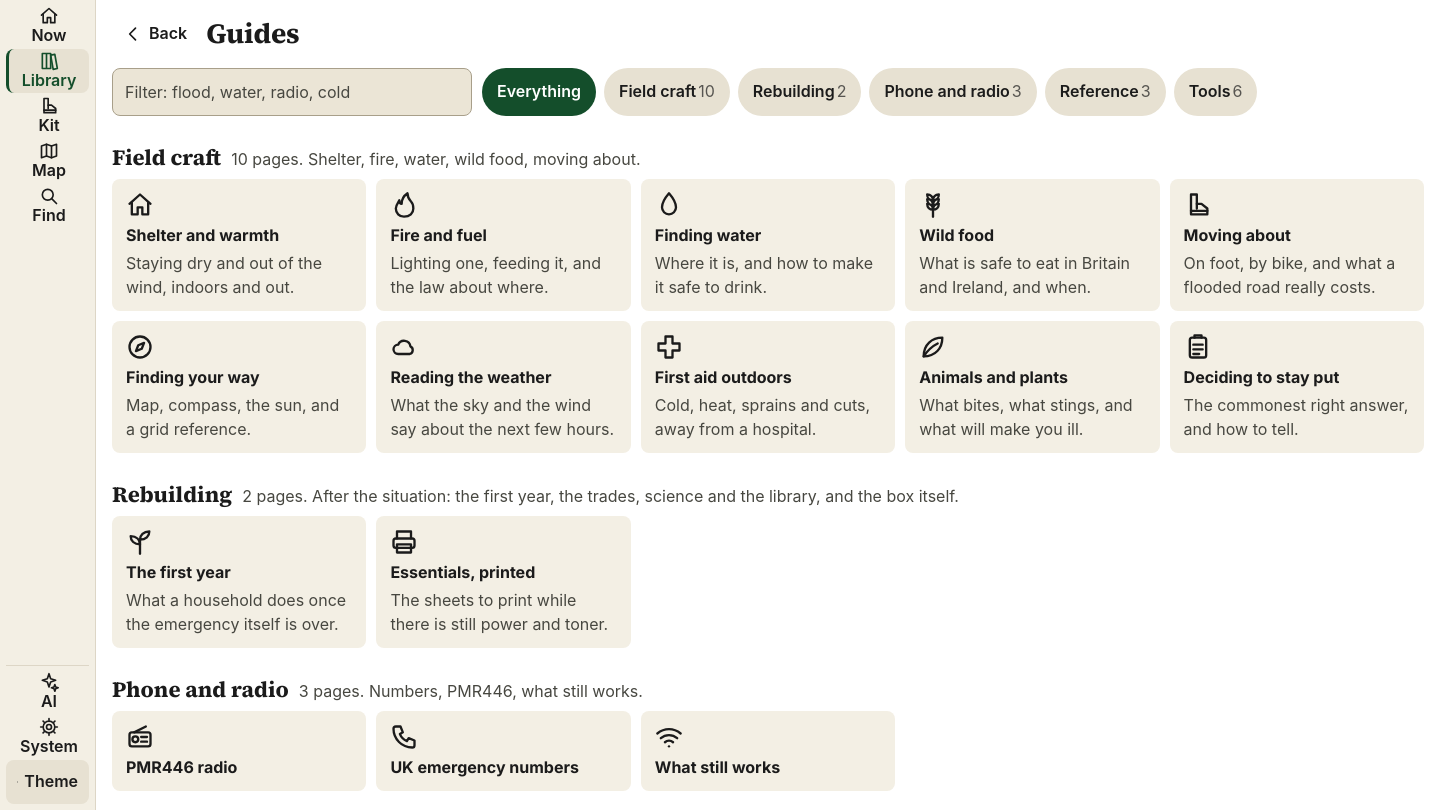
Scenario: Guides › narrows to one kind of guide from the chips
The image size is (1440, 810).
Expected: the navigation bar named "Phone and radio" is shown, [112,711,895,791]
Click the button "Tools 6": [1216, 92] box [1174,68,1257,116]
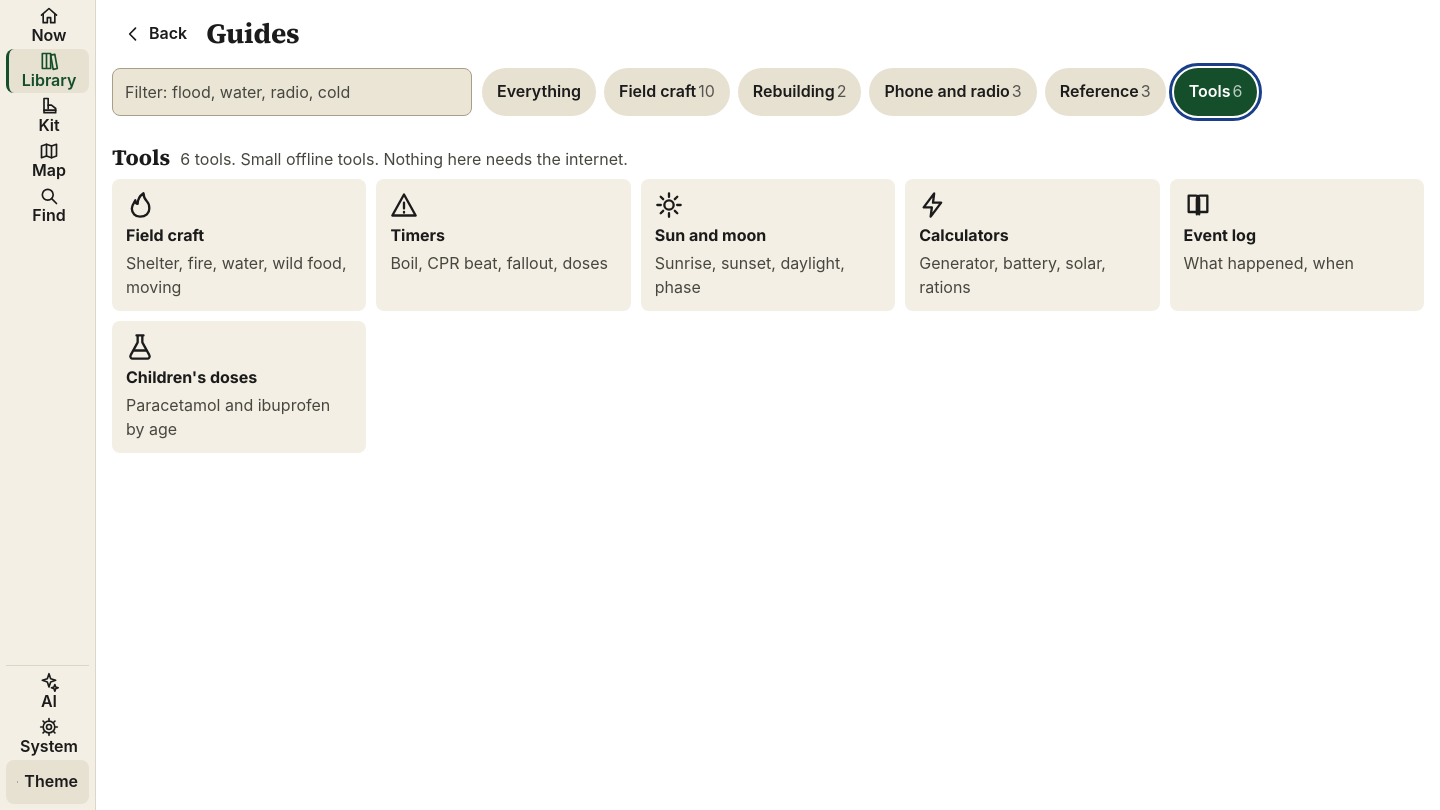
Now the navigation bar named "Tools" is shown, box [112,179,1424,453]
